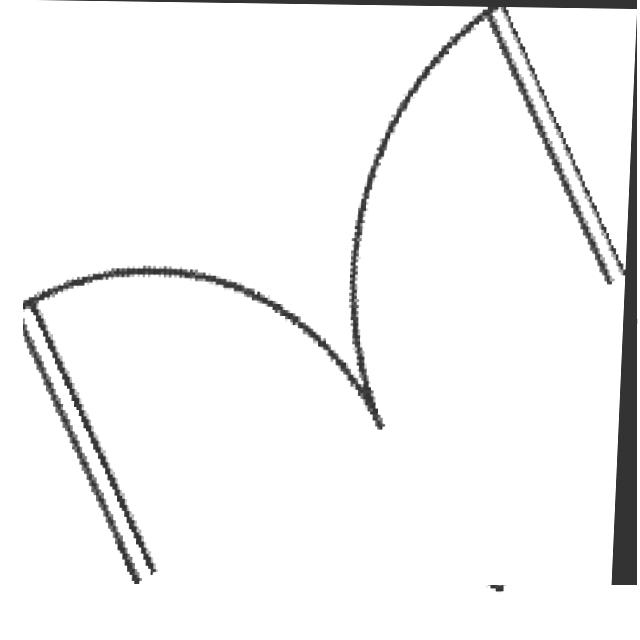door: (23, 0, 637, 585)
